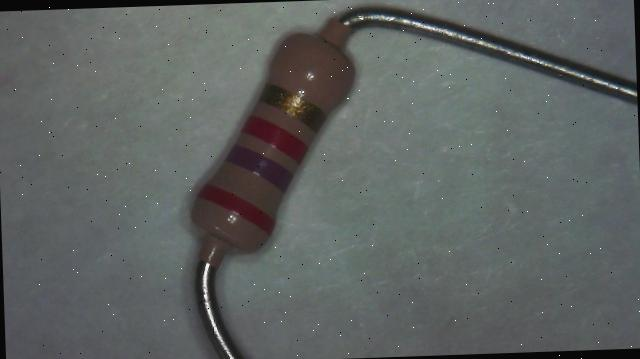gold: (258, 82, 326, 133)
red: (200, 182, 276, 234), (242, 114, 310, 165)
resistor: (171, 1, 378, 281)
violet: (226, 144, 294, 192)
